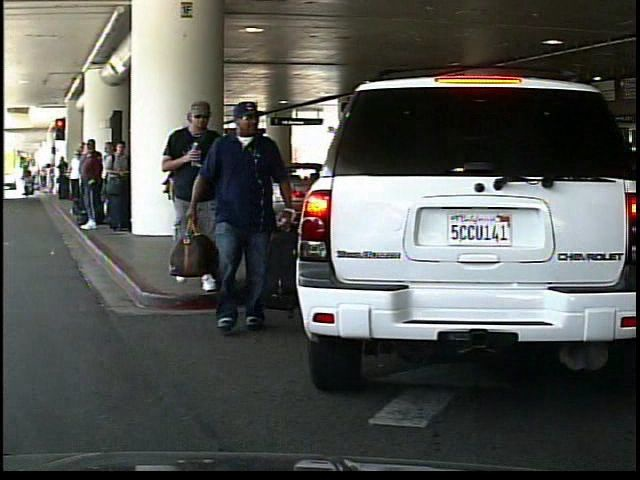person: (197, 100, 300, 339), (163, 99, 231, 290), (197, 135, 241, 251)
